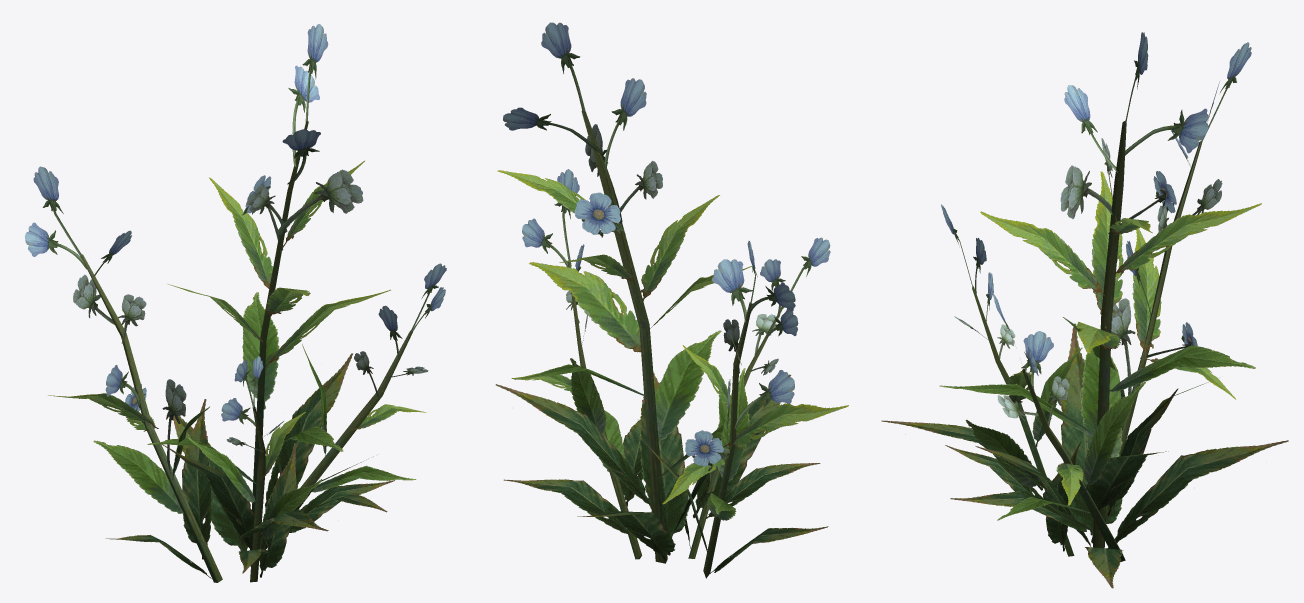
Rendered from jd_hua_1.FBX.
3 views of the same model, side by side, from view 1: azimuth 30°, elevation 25°; view 2: azimuth 150°, elevation 25°; view 3: azimuth 270°, elevation 25° (orthographic). The views are drawn at different scales.
Parts seen in each view (by area): view 1: jd_hua_1; view 2: jd_hua_1; view 3: jd_hua_1.
Part boxes in pixels (left/top/right/bottom): jd_hua_1: left=25, top=24, right=446, bottom=582; jd_hua_1: left=495, top=22, right=848, bottom=578; jd_hua_1: left=881, top=32, right=1288, bottom=588.
Bounding box in the file's own units: 89.91 × 123 × 76.99.
